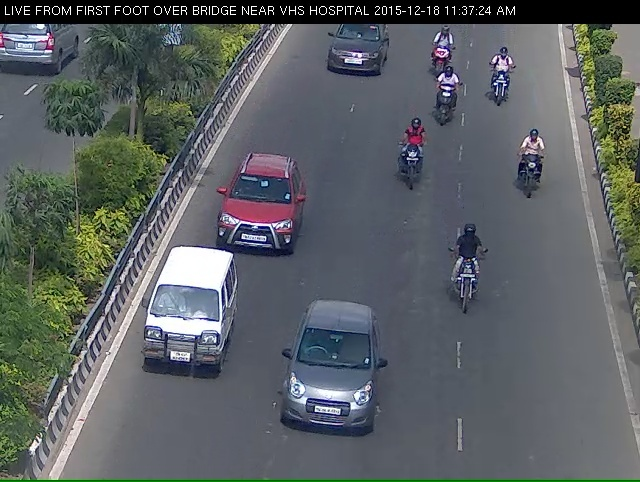Car: (262, 315, 386, 477), (141, 267, 226, 419), (208, 171, 298, 263), (317, 23, 386, 98)
Person: (451, 257, 500, 345), (516, 147, 554, 219), (488, 59, 521, 114), (399, 140, 424, 204), (427, 29, 452, 91), (432, 81, 462, 132)
